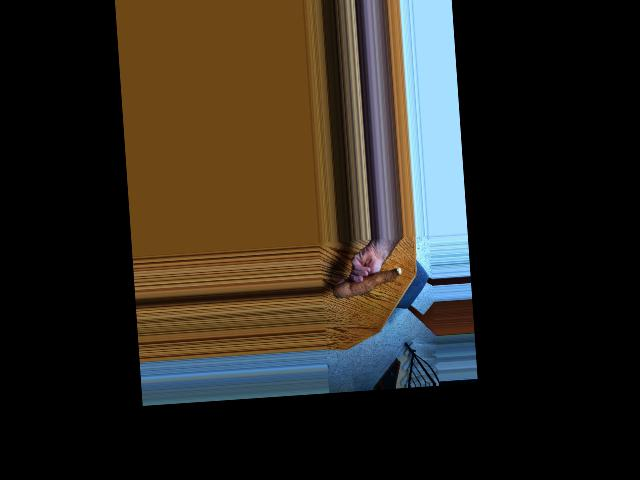sweet_potato: (331, 265, 403, 300)
